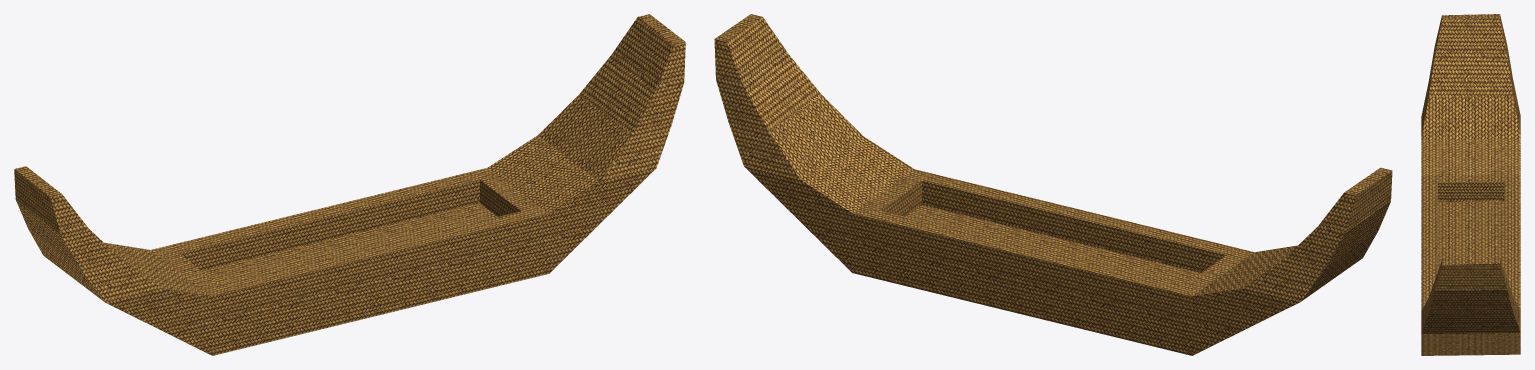
The model's file is egyptian reed boat.FBX.
3 views of the same model, side by side, from view 1: azimuth 30°, elevation 25°; view 2: azimuth 150°, elevation 25°; view 3: azimuth 270°, elevation 25° (orthographic). The views are drawn at different scales.
Parts seen in each view (by area): view 1: Boat; view 2: Boat; view 3: Boat.
Part boxes in pixels (left/top/right/bottom): Boat: left=14, top=14, right=685, bottom=355; Boat: left=714, top=14, right=1392, bottom=355; Boat: left=1421, top=14, right=1520, bottom=355.
Bounding box in the file's own units: 56.24 × 9.48 × 15.86.
Materials: 1 (1 with a texture image).
